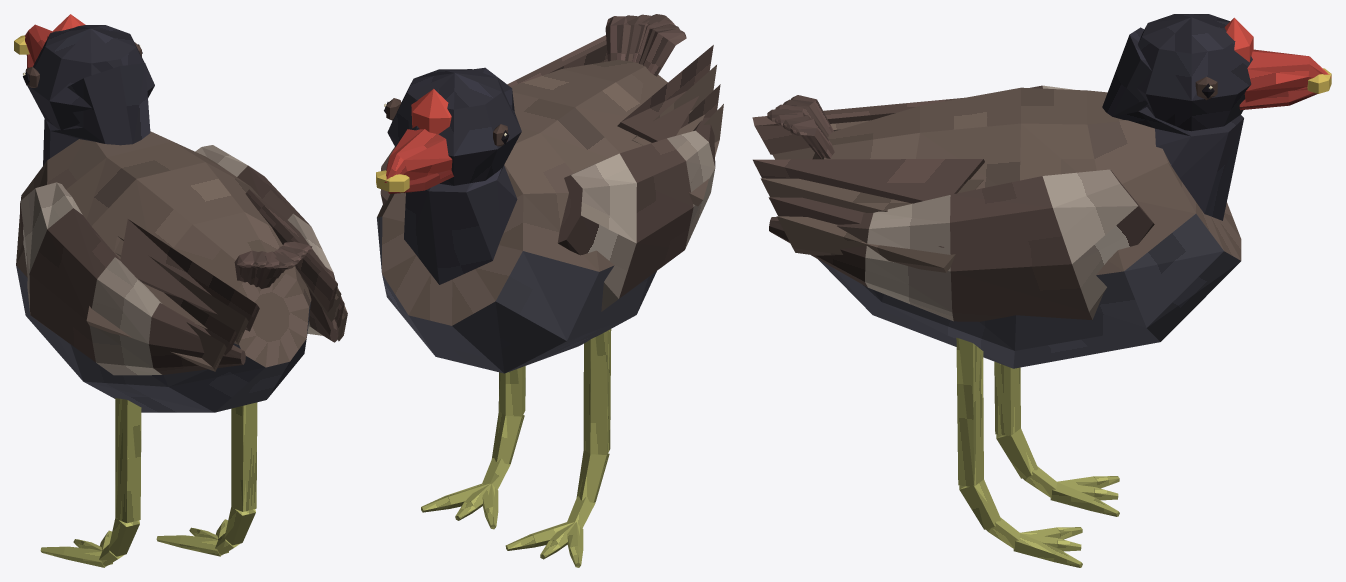
The model's file is mon_moorhen.glb.
3 renders of one model, left to right at view 1: azimuth 30°, elevation 25°; view 2: azimuth 150°, elevation 25°; view 3: azimuth 270°, elevation 25°, orthographic. The views are drawn at different scales.
Parts seen in each view (by area): view 1: closed_body; view 2: closed_body; view 3: closed_body.
Boxes of the visible parts, x1,y1,x2,y2 form: closed_body: [14, 14, 347, 567]; closed_body: [376, 14, 723, 567]; closed_body: [752, 14, 1331, 567].
Size of the model in its own units: 0.1146 by 0.2174 by 0.2242.
1 material, 1 textured.
